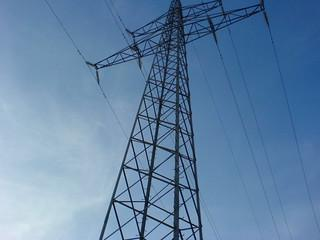power_tower: (76, 0, 267, 240)
